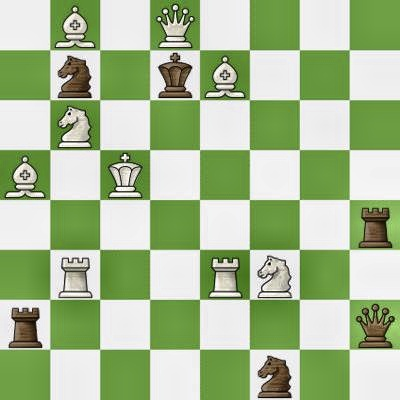black-king: (150, 50, 200, 100)
black-knight: (50, 50, 100, 100), (250, 350, 300, 400)
black-queen: (350, 300, 400, 350)
black-rook: (350, 200, 400, 250), (0, 300, 50, 350)
white-bishop: (50, 0, 100, 50), (200, 50, 250, 100), (0, 150, 50, 200)
white-king: (100, 150, 150, 200)
white-knight: (50, 100, 100, 150), (250, 250, 300, 300)
white-queen: (150, 0, 200, 50)
white-rook: (50, 250, 100, 300), (200, 250, 250, 300)
